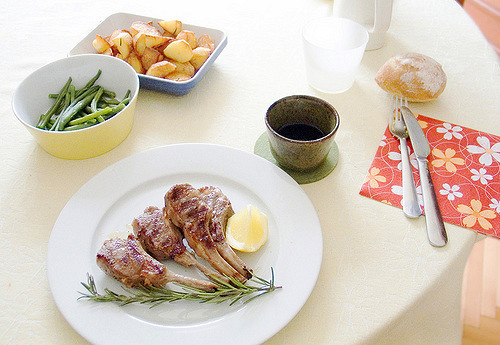boiled peas: (51, 87, 114, 122)
boiled potatoes: (102, 17, 193, 69)
glass of milk: (299, 12, 362, 101)
slice of bread: (388, 54, 447, 101)
